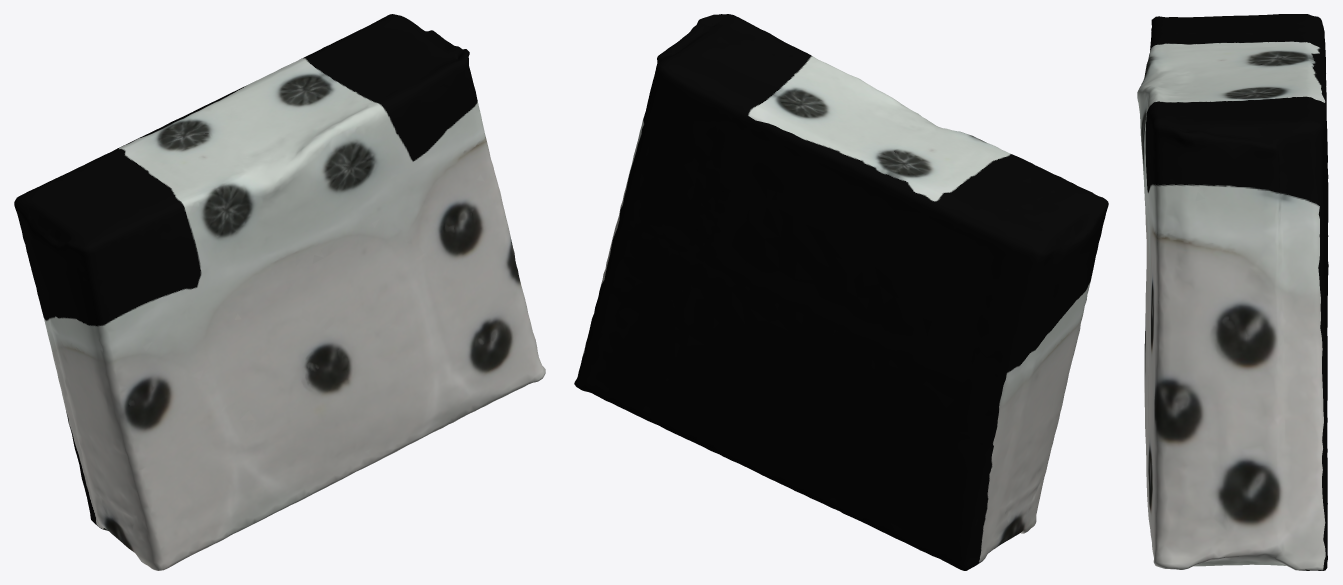
The picture shows the model from 3 angles, left to right: view 1: azimuth 30°, elevation 25°; view 2: azimuth 150°, elevation 25°; view 3: azimuth 270°, elevation 25°; orthographic projection. The views are drawn at different scales.
Visible parts, largest first — view 1: textured.008; view 2: textured.008; view 3: textured.008.
Part boxes in pixels (left/top/right/bottom): textured.008: left=14, top=14, right=545, bottom=570; textured.008: left=574, top=14, right=1108, bottom=570; textured.008: left=1137, top=14, right=1328, bottom=570.
Size of the model in its own units: 0.1011 by 0.0894 by 0.0301.
